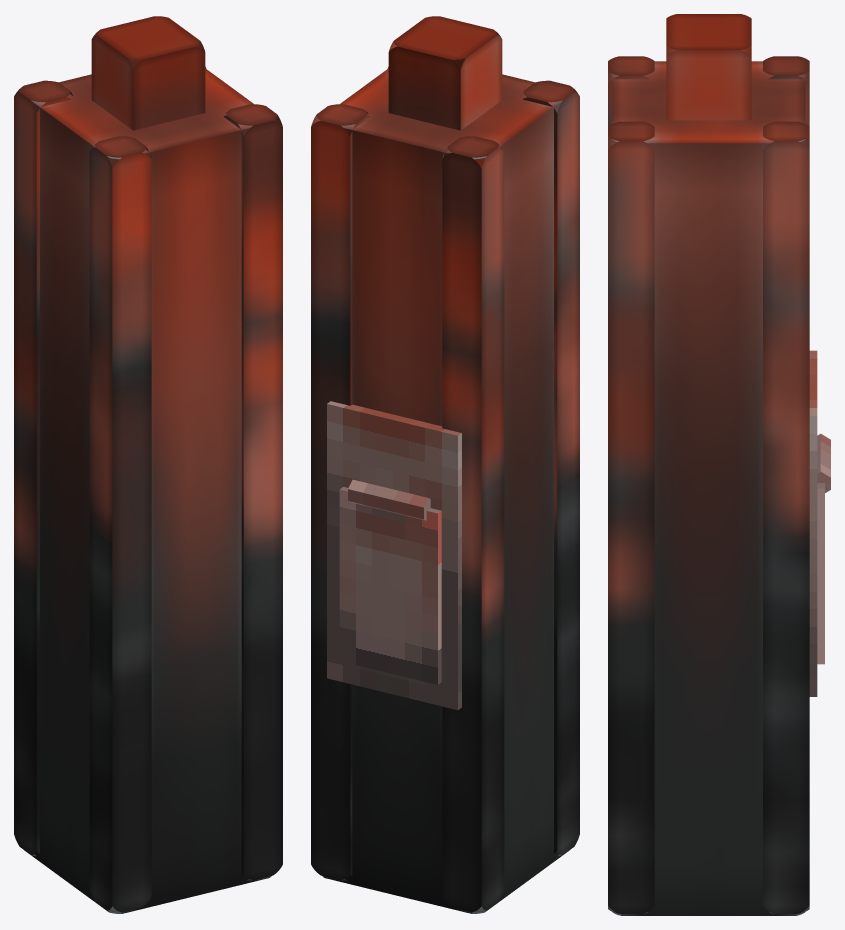
Rendered from Duck_dispenser.fbx.
3 views of the same model, side by side, from view 1: azimuth 30°, elevation 25°; view 2: azimuth 150°, elevation 25°; view 3: azimuth 270°, elevation 25° (orthographic). The views are drawn at different scales.
Visible parts, largest first — view 1: cokul; view 2: cokul, trapdoor, cylinder; view 3: cokul, trapdoor, cylinder.
Boxes of the visible parts, x1,y1,x2,y2 form: cokul: [14, 16, 282, 913]; cokul: [311, 16, 579, 913]; trapdoor: [339, 487, 441, 684]; cylinder: [348, 479, 430, 520]; cokul: [608, 14, 817, 915]; trapdoor: [817, 483, 824, 664]; cylinder: [817, 433, 830, 492].
Bounding box in the file's own units: 26 × 120 × 28.74.
2 materials, 2 textured.
